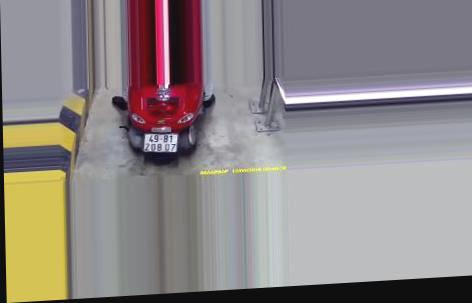License_Plate: (140, 129, 181, 158)
